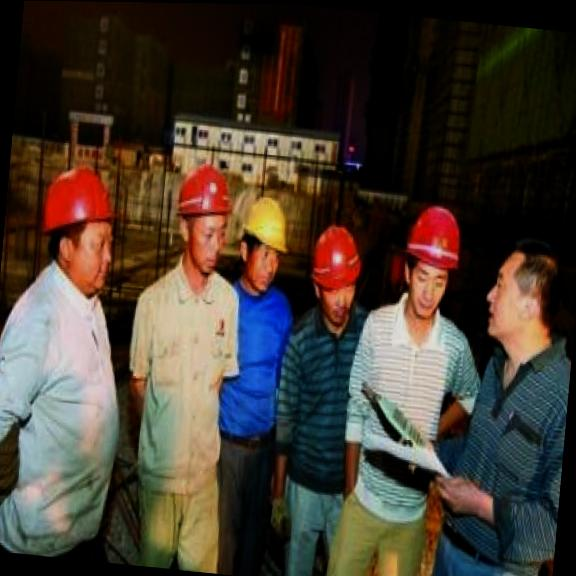no_safety_vest: (0, 265, 136, 564), (332, 300, 490, 535), (443, 329, 573, 576), (119, 267, 248, 502), (264, 294, 378, 506), (213, 279, 300, 446)
